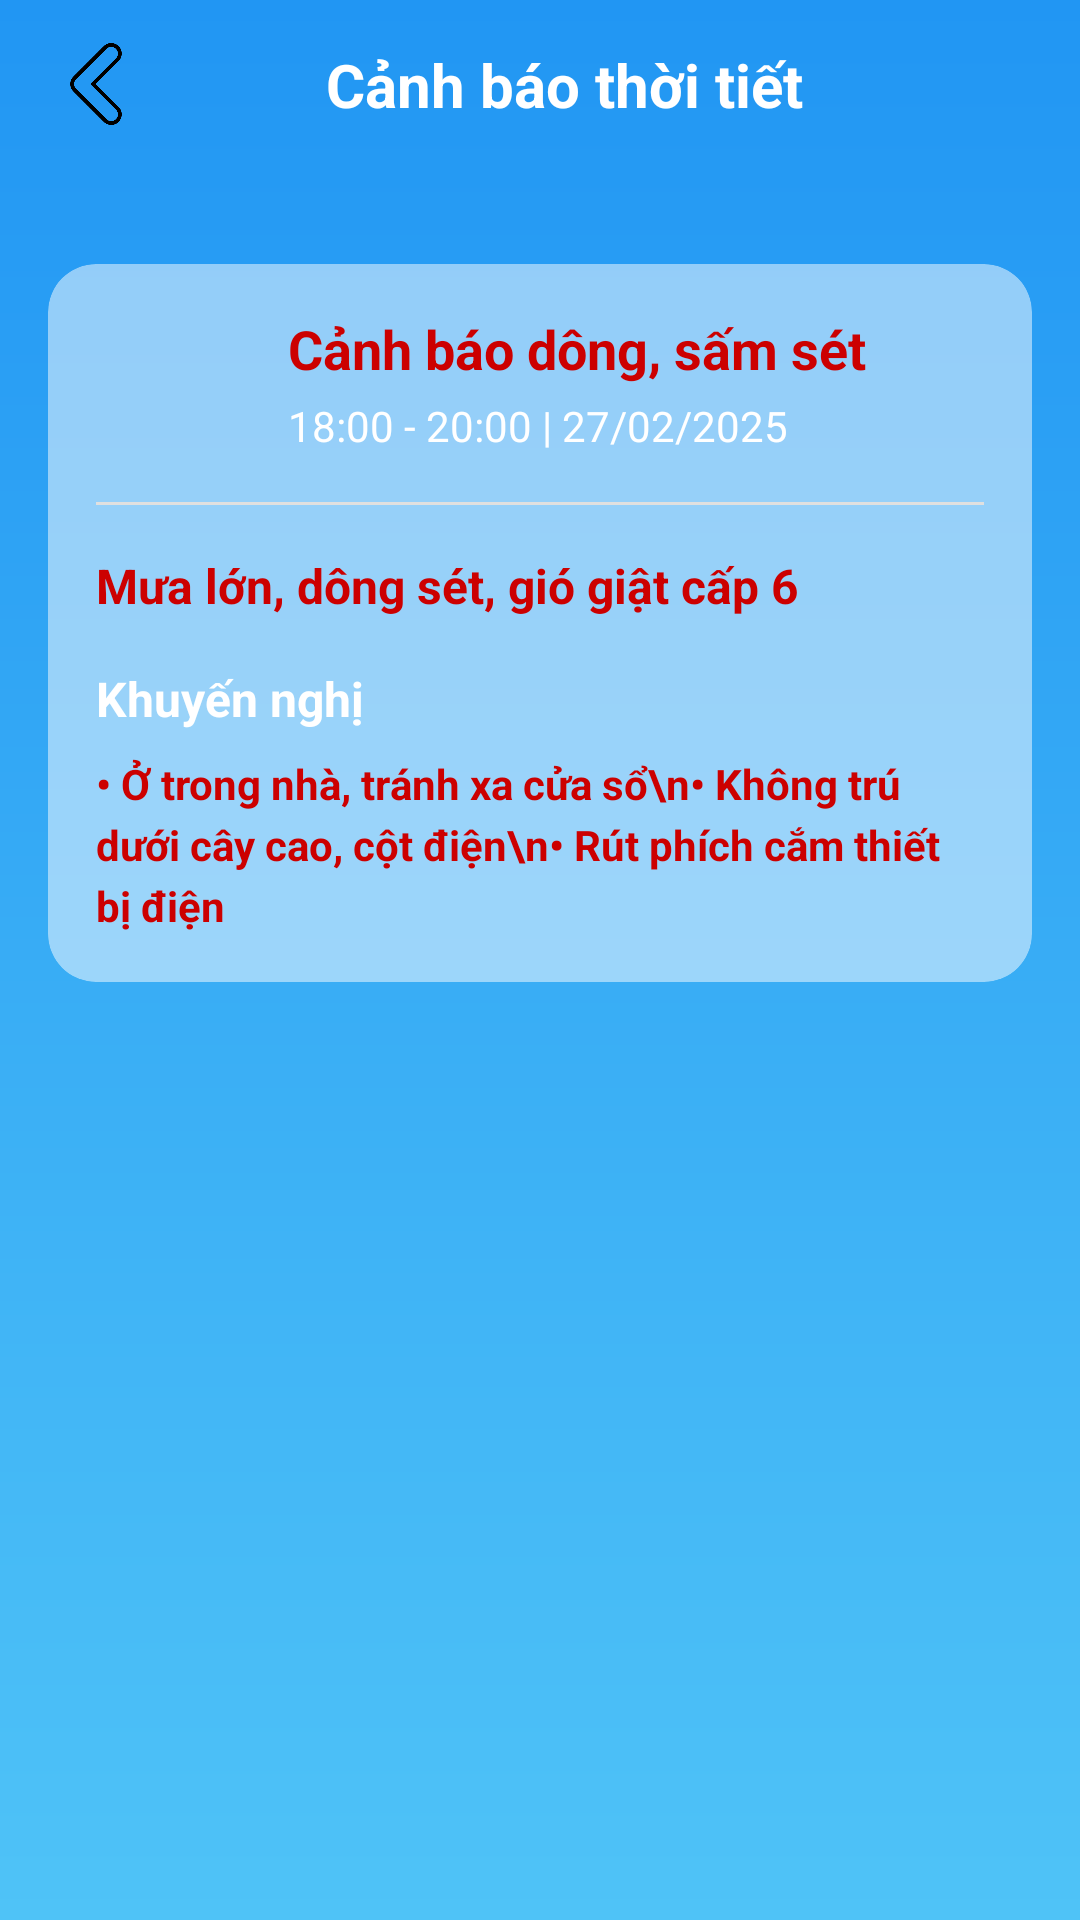

Named icons in this screenshot (1080w x 1920h) and their bounding boxes, box(x1, y1, x2, y2):
Back: box(70, 43, 122, 125)
